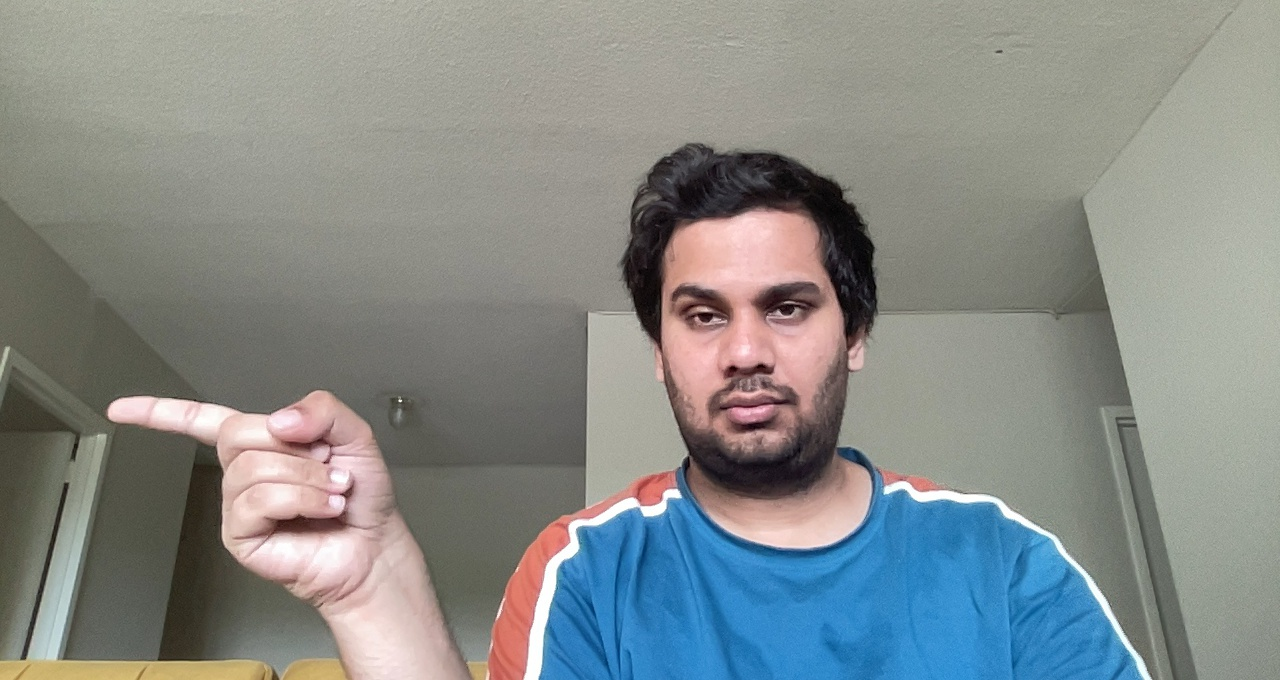fingerright: (100, 375, 417, 625)
